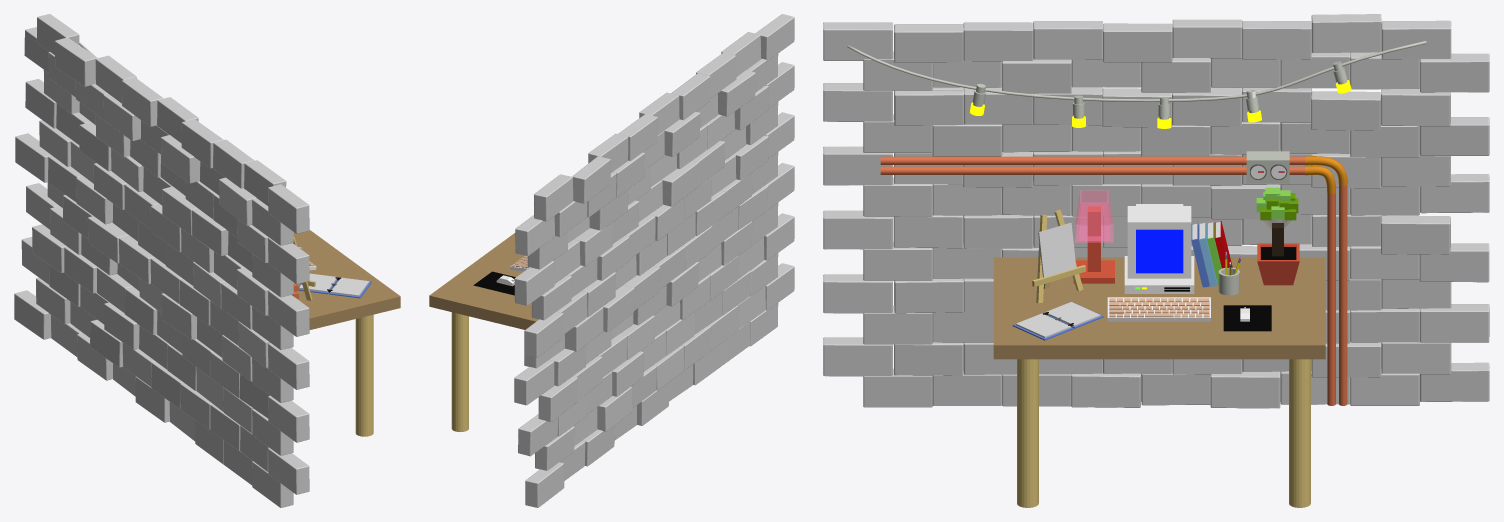
Rendered from desk.glb.
3 renders of one model, left to right at view 1: azimuth 30°, elevation 25°; view 2: azimuth 150°, elevation 25°; view 3: azimuth 270°, elevation 25°, orthographic. The views are drawn at different scales.
Parts seen in each view (by area): view 1: Cube, Cylinder, Plane160, Plane104, Plane118, Plane130, Plane124, Plane136, Plane151, Plane090, Plane050, Plane076 (+95 smaller); view 2: Cube, Cylinder002, Plane111, Plane104, Plane052, Plane053, Plane050, Plane054, Plane107, Plane160, Plane055, Plane019 (+95 smaller); view 3: Cube, Cylinder029, Cylinder027, Cylinder, Cylinder002, Plane069, Plane083, Plane090, Plane108, Plane103, Plane104, Plane062 (+99 smaller).
Part boxes in pixels (box(x1,y1,x2,y2)): Cube: box(293, 230, 400, 329); Cylinder: box(355, 314, 373, 436); Plane160: box(268, 184, 309, 233); Plane104: box(54, 37, 97, 86); Plane118: box(268, 343, 309, 389); Plane130: box(268, 395, 309, 442); Plane124: box(268, 290, 309, 336); Plane136: box(268, 448, 309, 494); Plane151: box(268, 237, 309, 284); Plane090: box(122, 77, 163, 126); Plane050: box(14, 290, 51, 339); Plane076: box(181, 119, 223, 168); Cube: box(429, 233, 538, 329); Cylinder002: box(451, 312, 468, 431); Plane111: box(534, 174, 573, 221); Plane104: box(572, 156, 610, 203); Plane052: box(514, 360, 554, 405); Plane053: box(524, 312, 563, 357); Plane050: box(525, 462, 564, 507); Plane054: box(514, 261, 554, 305); Plane107: box(538, 376, 577, 421); Plane160: box(755, 14, 794, 61); Plane055: box(515, 215, 554, 255); Plane019: box(662, 160, 698, 206); Cube: box(993, 257, 1325, 359); Cylinder029: box(880, 166, 1304, 174); Cylinder027: box(880, 156, 1304, 164); Cylinder: box(1017, 359, 1038, 507); Cylinder002: box(1289, 359, 1310, 507); Plane069: box(963, 22, 1033, 61); Plane083: box(1103, 23, 1172, 62); Plane090: box(1172, 19, 1242, 58); Plane108: box(1381, 215, 1450, 254); Plane103: box(1311, 91, 1380, 130); Plane104: box(1311, 14, 1381, 53); Plane062: box(894, 24, 963, 62).
Bounding box in the file's own units: 1.56 × 2.61 × 4.02.
